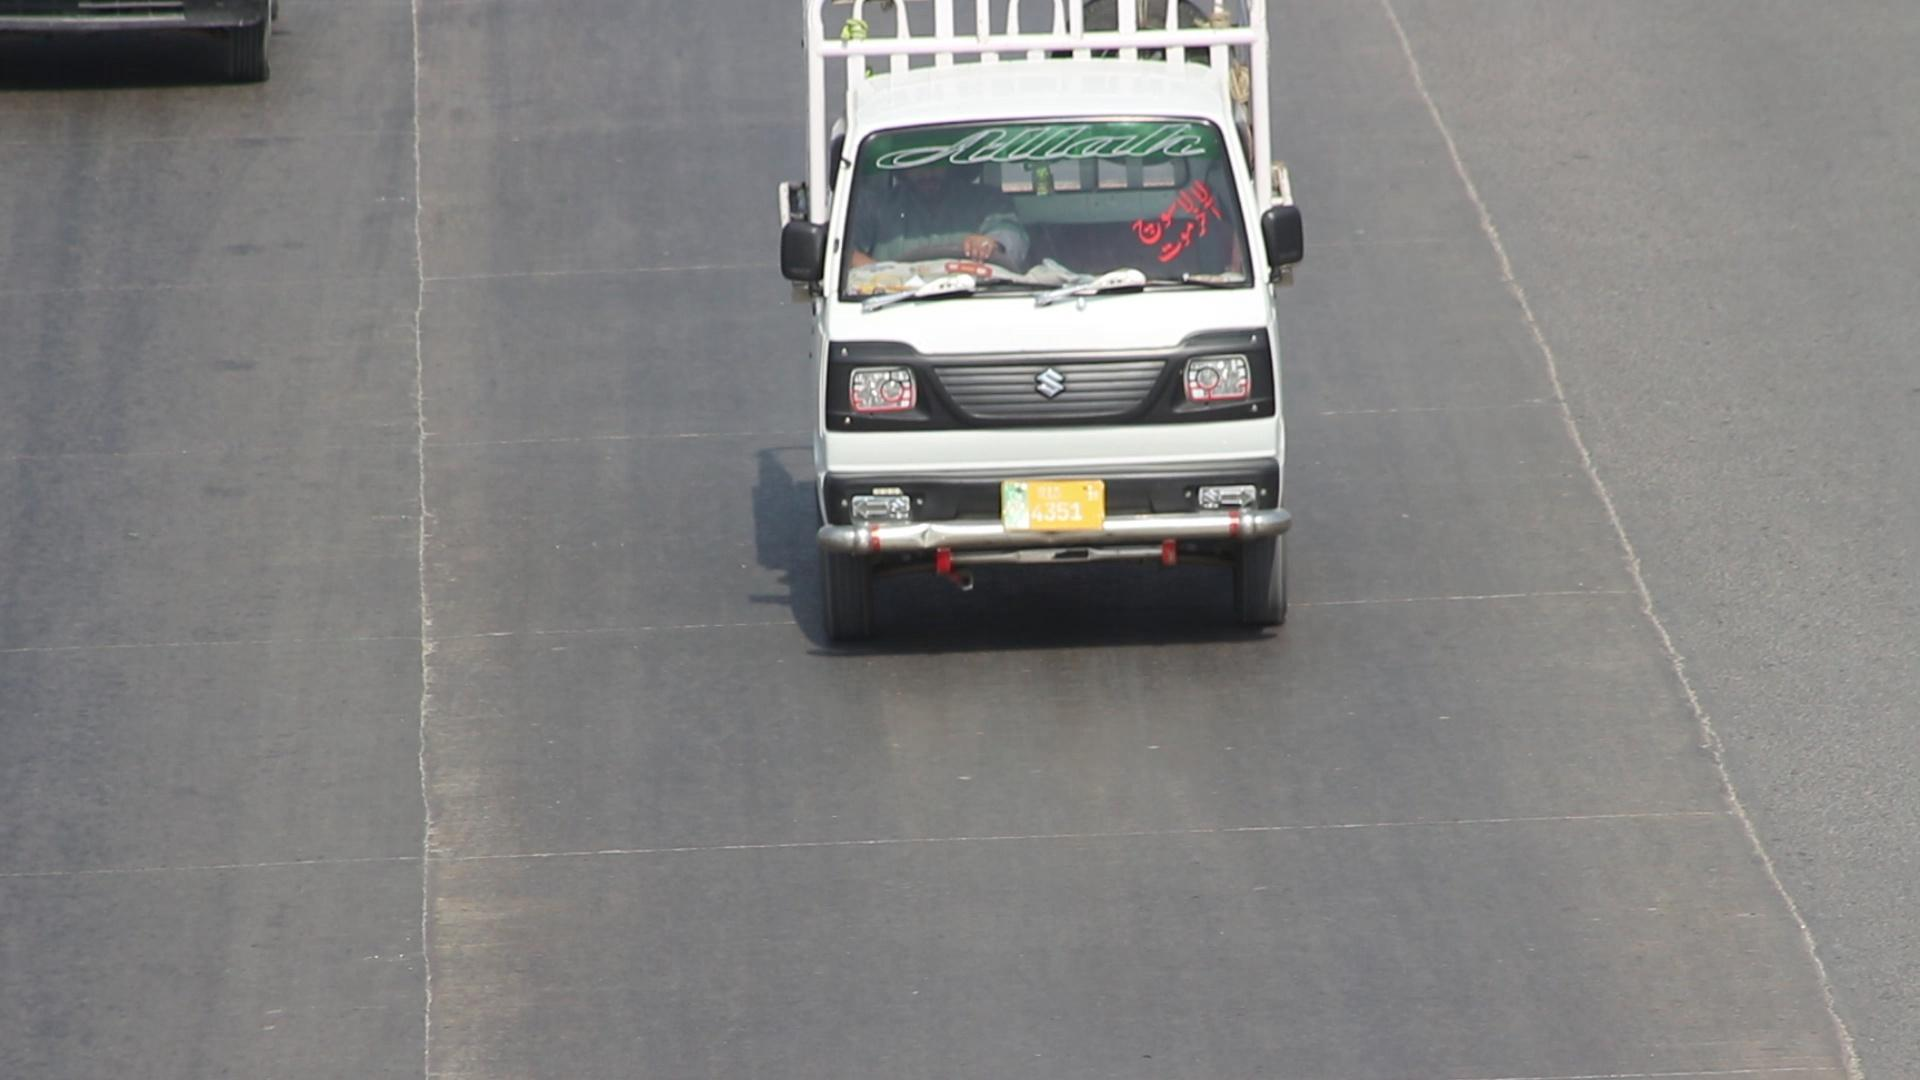windshield: (831, 103, 1274, 323)
